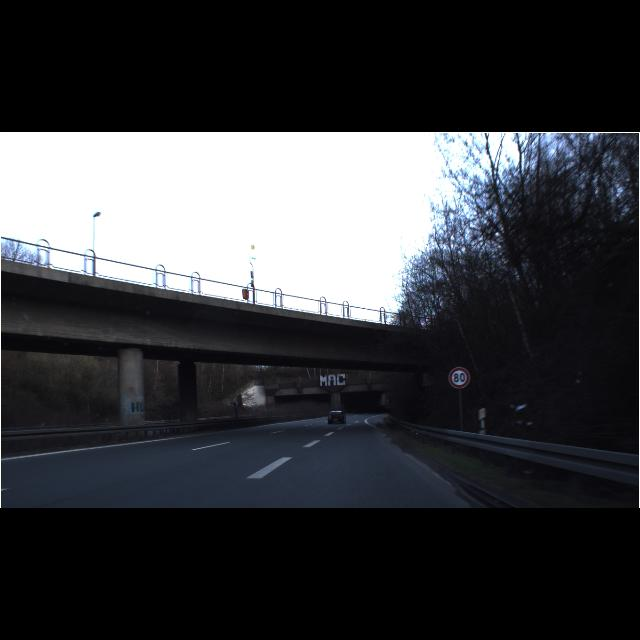prohibitory: (448, 367, 470, 389)
